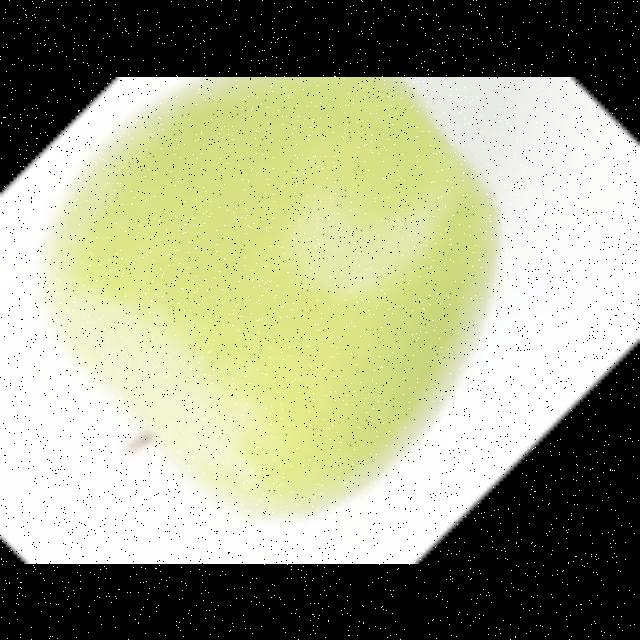Apel Segar: (0, 77, 560, 546)
